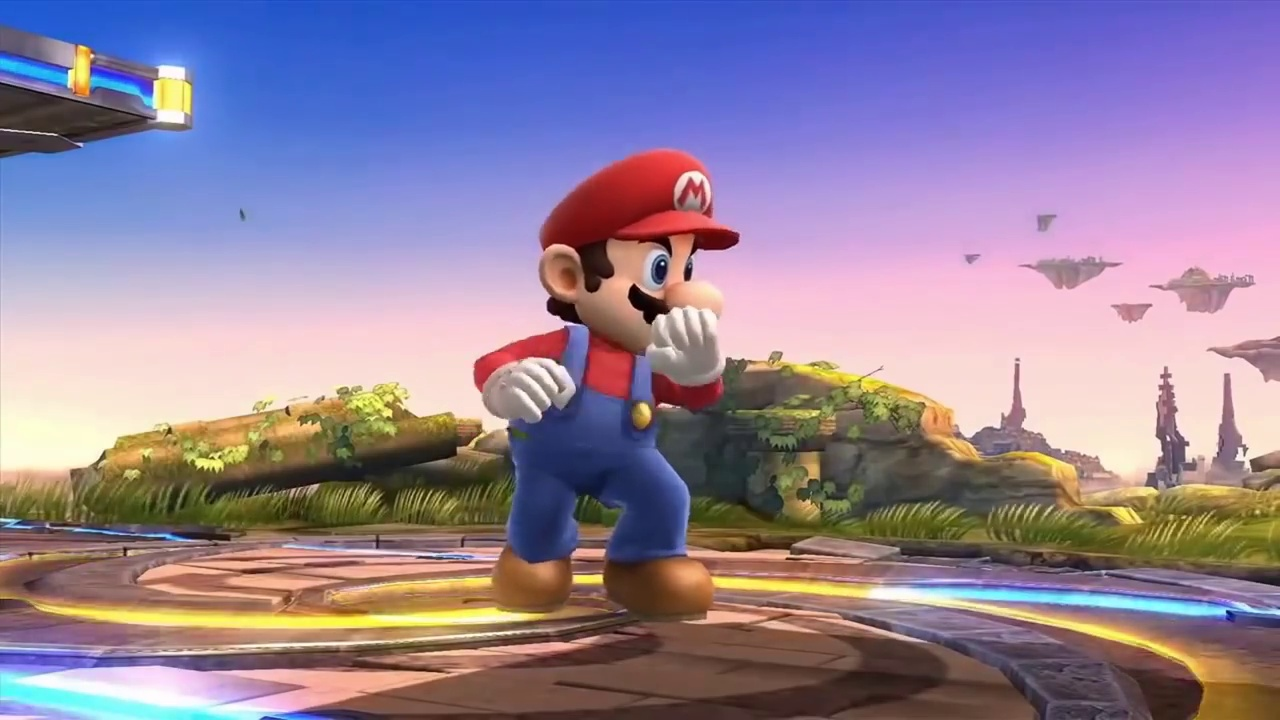Mario: (473, 148, 741, 620)
